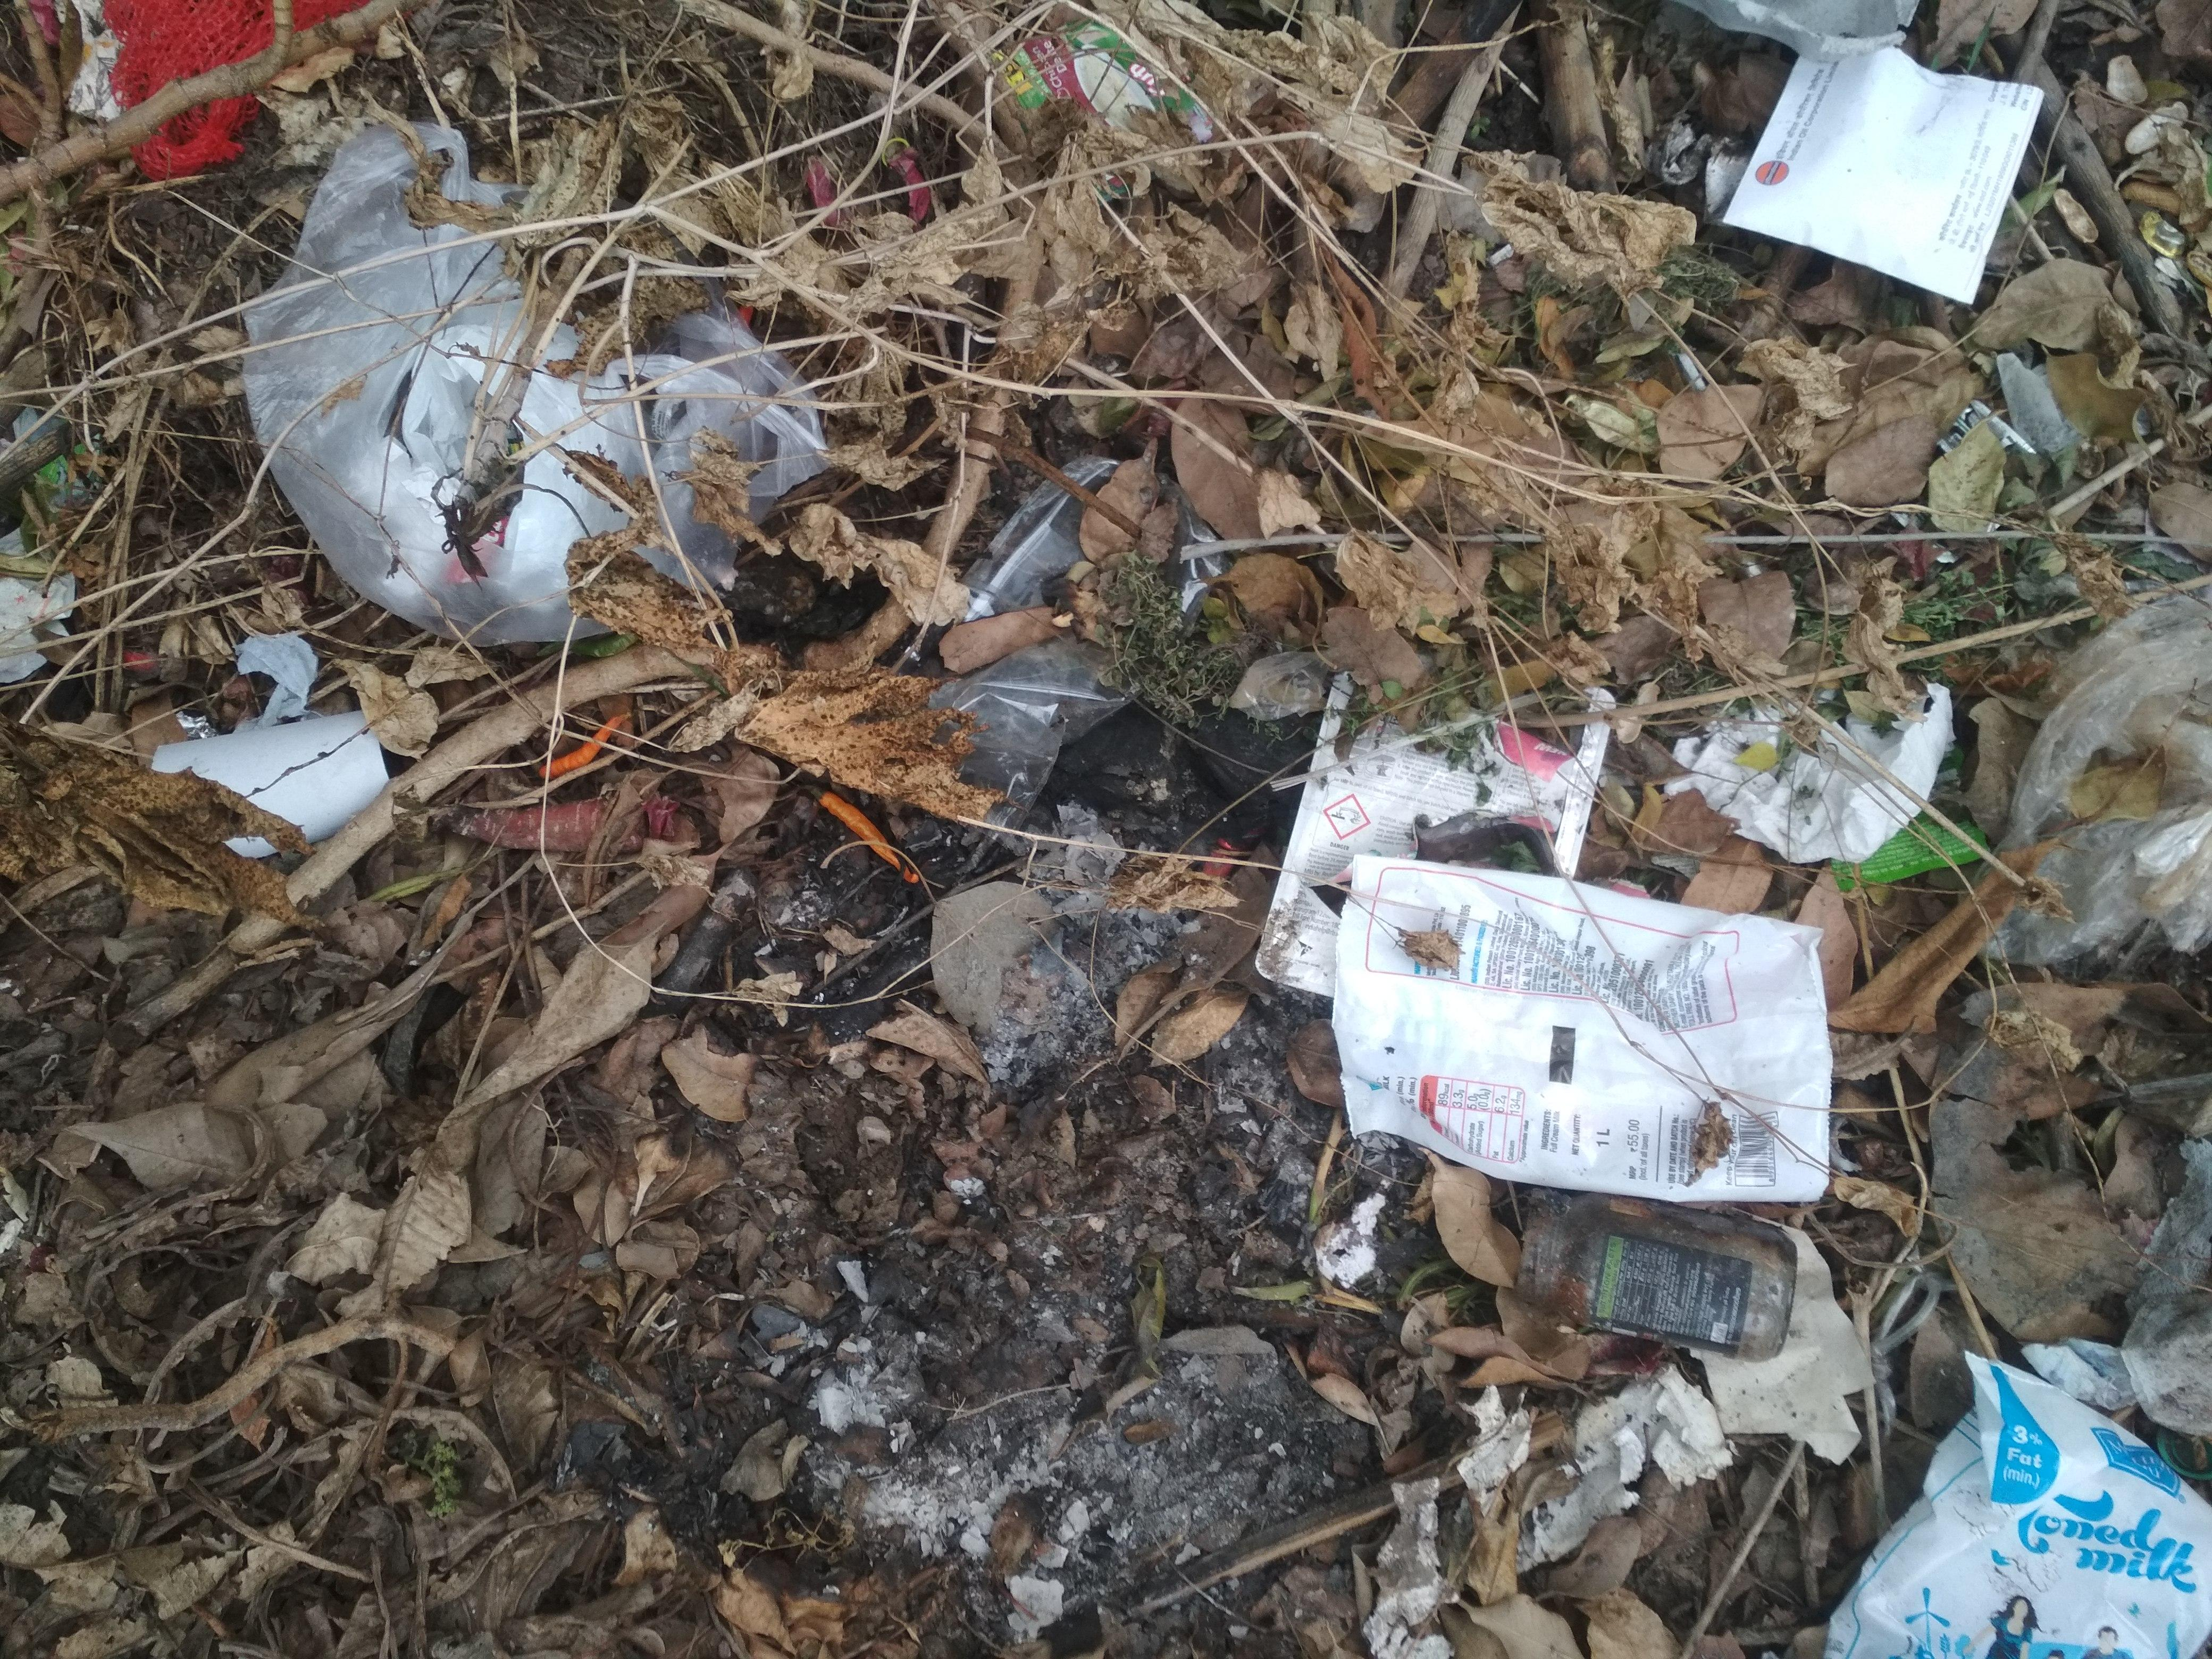organic: (105, 9, 2205, 1659)
